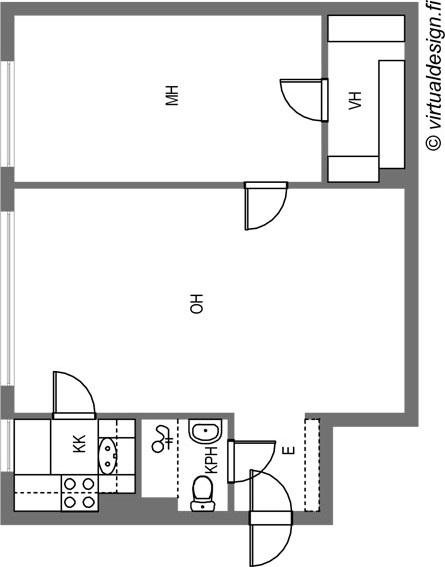bathroom: (176, 419, 233, 512)
door: (246, 468, 293, 526), (241, 177, 287, 235), (49, 368, 98, 420), (249, 509, 296, 562), (277, 76, 331, 122), (224, 438, 278, 483)
perimeter: (0, 0, 422, 527)
window: (0, 203, 17, 394), (0, 53, 18, 174), (0, 413, 18, 477)
